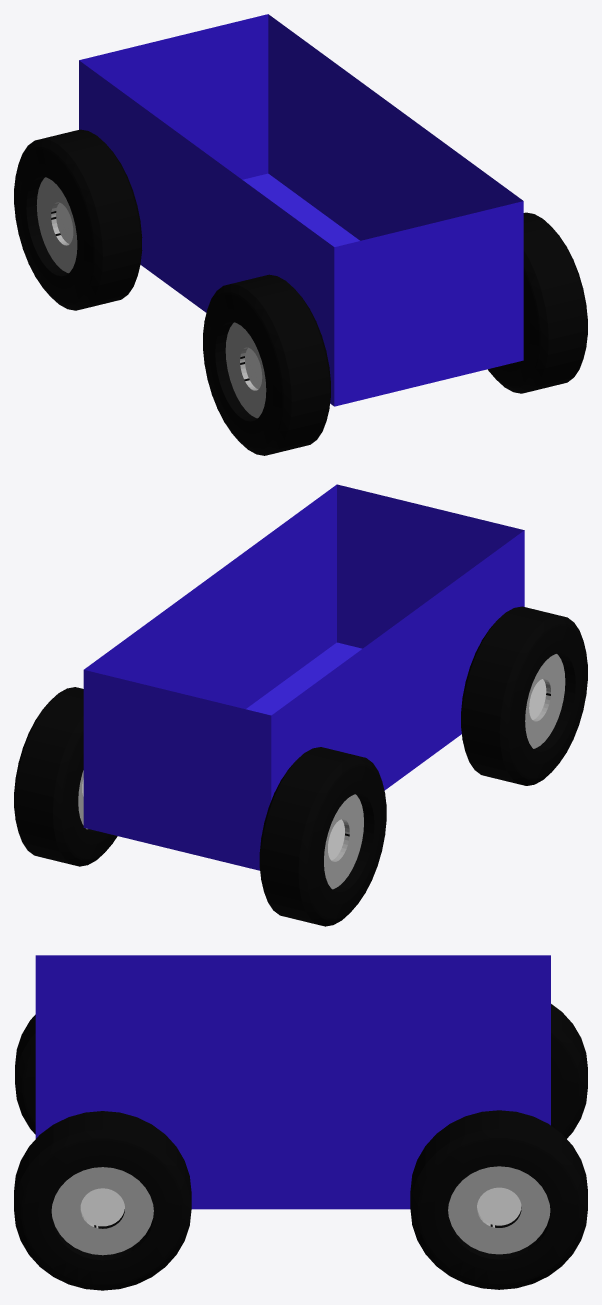
3 views of the same model, one above another, from view 1: azimuth 30°, elevation 25°; view 2: azimuth 150°, elevation 25°; view 3: azimuth 270°, elevation 25° (orthographic).
Parts seen in each view (by area): view 1: 立方体, 柱体.003, 柱体, 柱体.002; view 2: 立方体, 柱体, 柱体.003, 柱体.001; view 3: 立方体, 柱体.001, 柱体.002, 柱体, 柱体.003.
Part boxes in pixels (x1,y1,x2,y2): 立方体: [79, 14, 523, 406]; 柱体.003: [203, 274, 330, 455]; 柱体: [14, 129, 142, 310]; 柱体.002: [488, 212, 587, 393]; 立方体: [83, 484, 524, 870]; 柱体: [259, 747, 386, 926]; 柱体.003: [461, 606, 587, 785]; 柱体.001: [14, 687, 117, 866]; 立方体: [35, 955, 550, 1209]; 柱体.001: [410, 1110, 587, 1289]; 柱体.002: [14, 1111, 191, 1290]; 柱体: [551, 1004, 587, 1138]; 柱体.003: [15, 1014, 35, 1134].
Bounding box in the file's own units: 4.05 × 2.69 × 6.47.
